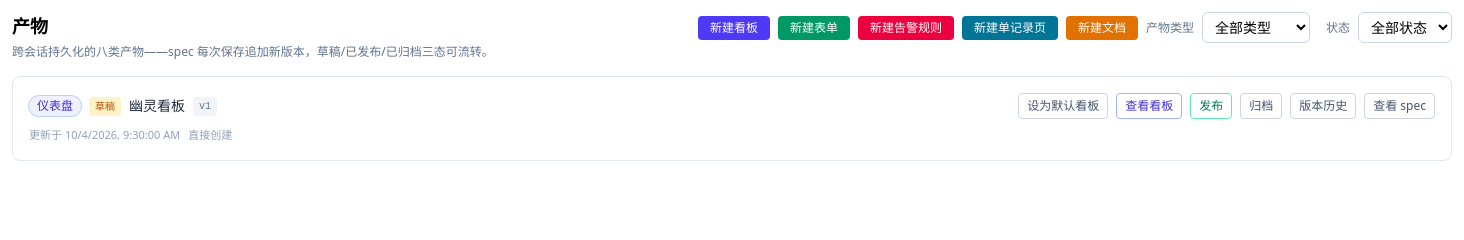
Test: 产物页 dashboard 集成（查看看板 → 编辑 → 保存 v2 → 新版本生效） › 看板加载失败如实呈现错误态
The width and height of the screenshot is (1464, 240).
Click the button with test id "artifact-dashboard-view" at (1149, 106), box [1116,93,1182,119]
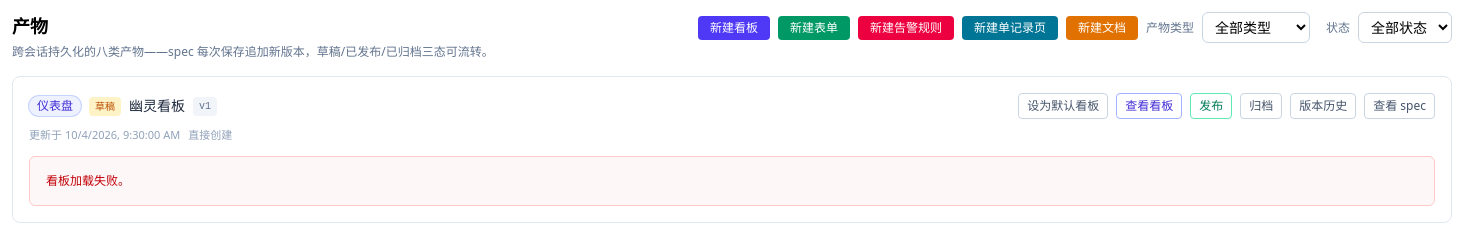
Expected: the text "看板加载失败。" is shown, [46,172,130,188]
